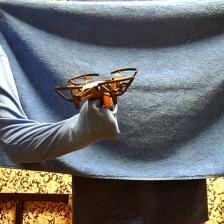drone: (55, 66, 138, 111)
